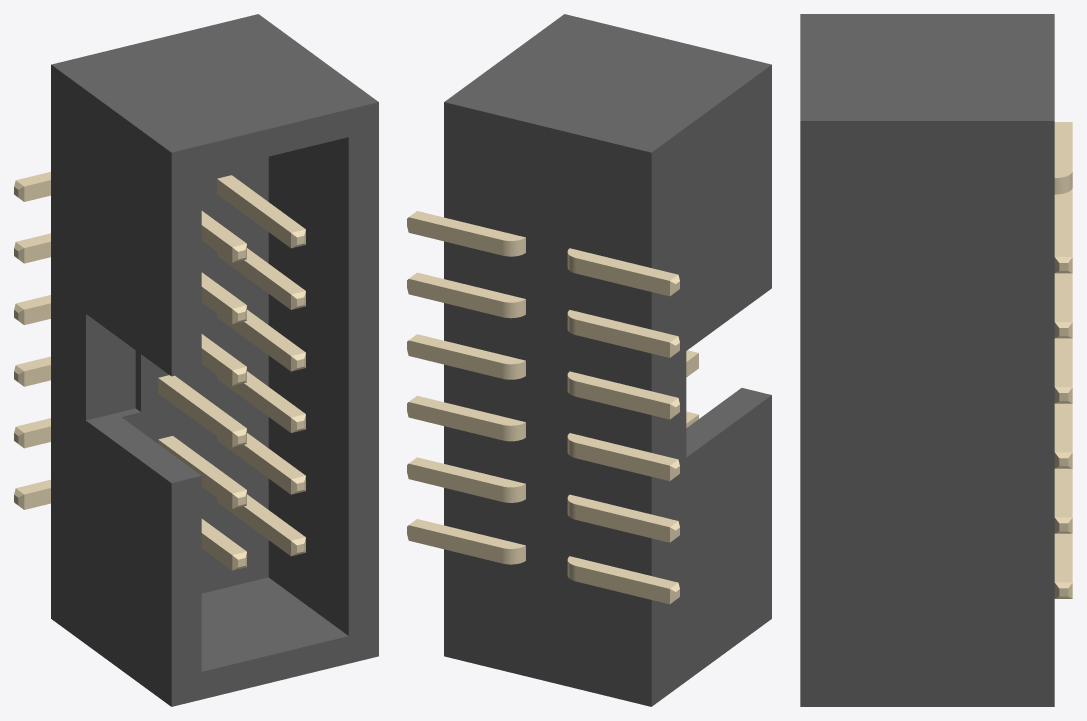
Rendered from IDC-Header_2x06_P2.54mm_Vertical_SMD.glb.
The picture shows the model from 3 angles, left to right: view 1: azimuth 30°, elevation 25°; view 2: azimuth 150°, elevation 25°; view 3: azimuth 270°, elevation 25°; orthographic projection. The views are drawn at different scales.
Parts seen in each view (by area): view 1: Shape_IndexedFaceSet.001, Shape_IndexedFaceSet, Shape_IndexedFaceSet.005, Shape_IndexedFaceSet.009, Shape_IndexedFaceSet.021, Shape_IndexedFaceSet.004, Shape_IndexedFaceSet.019, Shape_IndexedFaceSet.002, Shape_IndexedFaceSet.078, Shape_IndexedFaceSet.115, Shape_IndexedFaceSet.114, Shape_IndexedFaceSet.077 (+16 smaller); view 2: Shape_IndexedFaceSet.012, Shape_IndexedFaceSet.001, Shape_IndexedFaceSet.009, Shape_IndexedFaceSet.002, Shape_IndexedFaceSet.125, Shape_IndexedFaceSet.131, Shape_IndexedFaceSet.134, Shape_IndexedFaceSet.137, Shape_IndexedFaceSet.128, Shape_IndexedFaceSet.140, Shape_IndexedFaceSet.146, Shape_IndexedFaceSet.143 (+16 smaller); view 3: Shape_IndexedFaceSet.010, Shape_IndexedFaceSet.009, Shape_IndexedFaceSet.063, Shape_IndexedFaceSet.028, Shape_IndexedFaceSet.037, Shape_IndexedFaceSet.040, Shape_IndexedFaceSet.043, Shape_IndexedFaceSet.031, Shape_IndexedFaceSet.034.
Part boxes in pixels (bbox=[...]): Shape_IndexedFaceSet.001: bbox=[51, 65, 171, 706]; Shape_IndexedFaceSet: bbox=[171, 102, 378, 706]; Shape_IndexedFaceSet.005: bbox=[268, 137, 348, 635]; Shape_IndexedFaceSet.009: bbox=[51, 14, 378, 152]; Shape_IndexedFaceSet.021: bbox=[122, 156, 268, 593]; Shape_IndexedFaceSet.004: bbox=[201, 577, 348, 671]; Shape_IndexedFaceSet.019: bbox=[86, 314, 135, 420]; Shape_IndexedFaceSet.002: bbox=[86, 408, 201, 482]; Shape_IndexedFaceSet.078: bbox=[158, 378, 232, 447]; Shape_IndexedFaceSet.115: bbox=[217, 179, 290, 247]; Shape_IndexedFaceSet.114: bbox=[217, 175, 305, 232]; Shape_IndexedFaceSet.077: bbox=[158, 436, 246, 493]; Shape_IndexedFaceSet.012: bbox=[444, 102, 651, 706]; Shape_IndexedFaceSet.001: bbox=[651, 65, 771, 706]; Shape_IndexedFaceSet.009: bbox=[444, 14, 771, 152]; Shape_IndexedFaceSet.002: bbox=[686, 388, 771, 457]; Shape_IndexedFaceSet.125: bbox=[408, 217, 502, 255]; Shape_IndexedFaceSet.131: bbox=[408, 340, 502, 378]; Shape_IndexedFaceSet.134: bbox=[408, 402, 502, 439]; Shape_IndexedFaceSet.137: bbox=[408, 463, 502, 501]; Shape_IndexedFaceSet.128: bbox=[408, 279, 502, 316]; Shape_IndexedFaceSet.140: bbox=[408, 525, 502, 563]; Shape_IndexedFaceSet.146: bbox=[576, 504, 669, 542]; Shape_IndexedFaceSet.143: bbox=[576, 566, 669, 604]; Shape_IndexedFaceSet.010: bbox=[800, 121, 1054, 706]; Shape_IndexedFaceSet.009: bbox=[800, 14, 1054, 120]; Shape_IndexedFaceSet.063: bbox=[1054, 122, 1072, 177]; Shape_IndexedFaceSet.028: bbox=[1054, 201, 1072, 256]; Shape_IndexedFaceSet.037: bbox=[1054, 403, 1072, 452]; Shape_IndexedFaceSet.040: bbox=[1054, 468, 1072, 517]; Shape_IndexedFaceSet.043: bbox=[1054, 533, 1072, 582]; Shape_IndexedFaceSet.031: bbox=[1054, 273, 1072, 321]; Shape_IndexedFaceSet.034: bbox=[1054, 338, 1072, 386].
Bounding box in the file's own units: 4.57 × 9 × 3.8.
